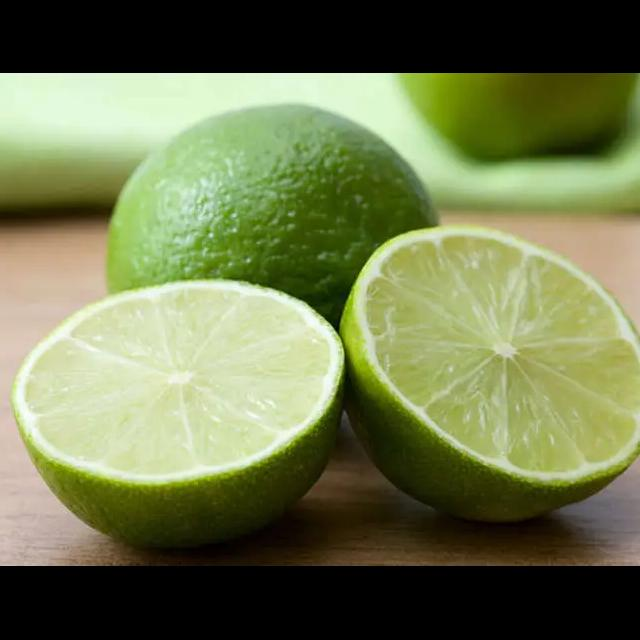lime: (99, 101, 449, 435)
